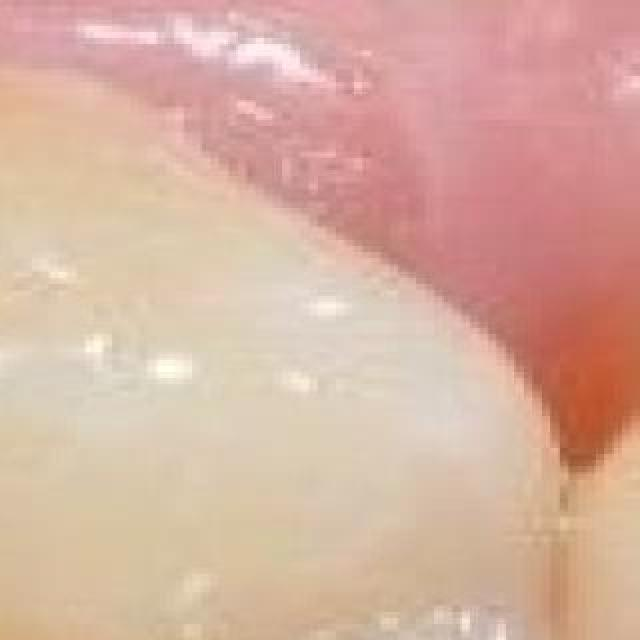cavities: (0, 600, 224, 640)
